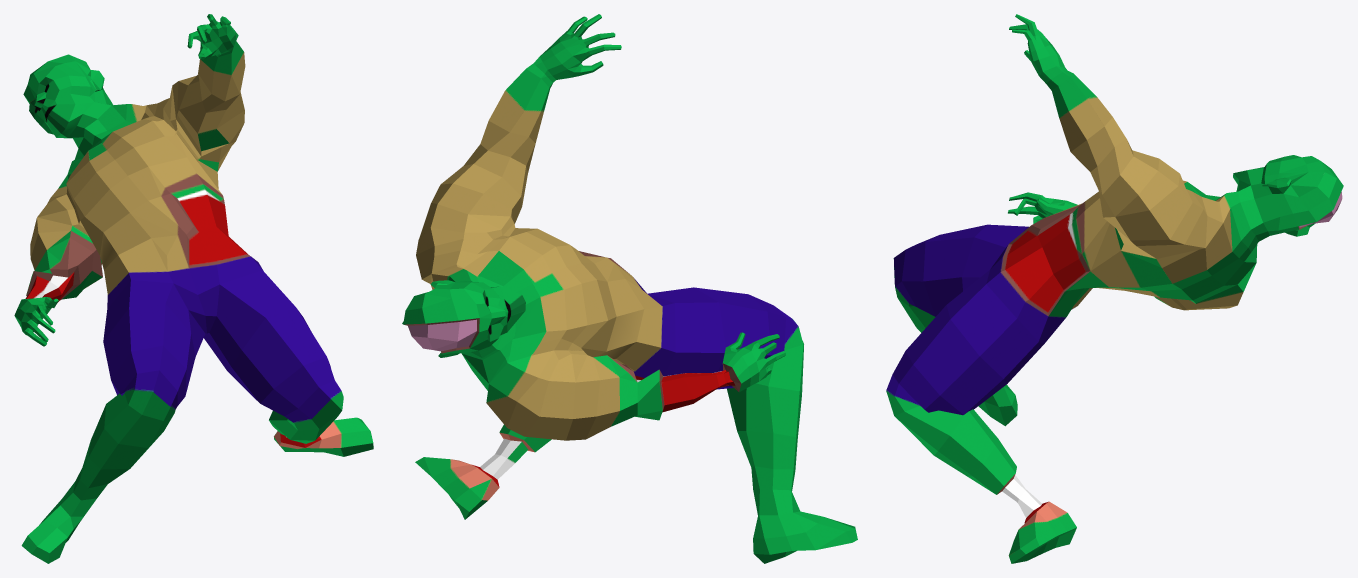
The model's file is ZombieDead(45).obj.
The picture shows the model from 3 angles, left to right: view 1: azimuth 30°, elevation 25°; view 2: azimuth 150°, elevation 25°; view 3: azimuth 270°, elevation 25°; orthographic projection. The views are drawn at different scales.
Parts seen in each view (by area): view 1: Plane002; view 2: Plane002; view 3: Plane002.
Part boxes in pixels (<box>): Plane002: <box>14,14,373,563</box>; Plane002: <box>402,14,857,563</box>; Plane002: <box>886,14,1343,563</box>.
Bounding box in the file's own units: 1128 × 1380 × 1180.
